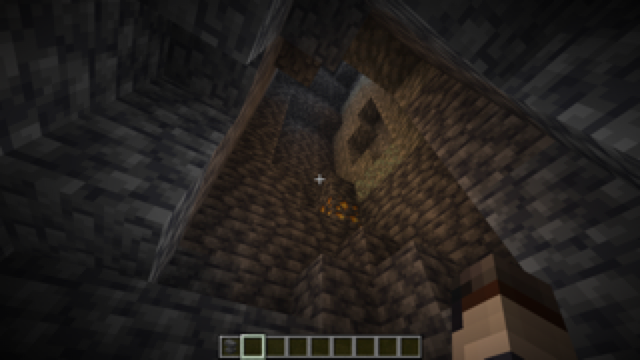gold: (316, 195, 363, 230)
